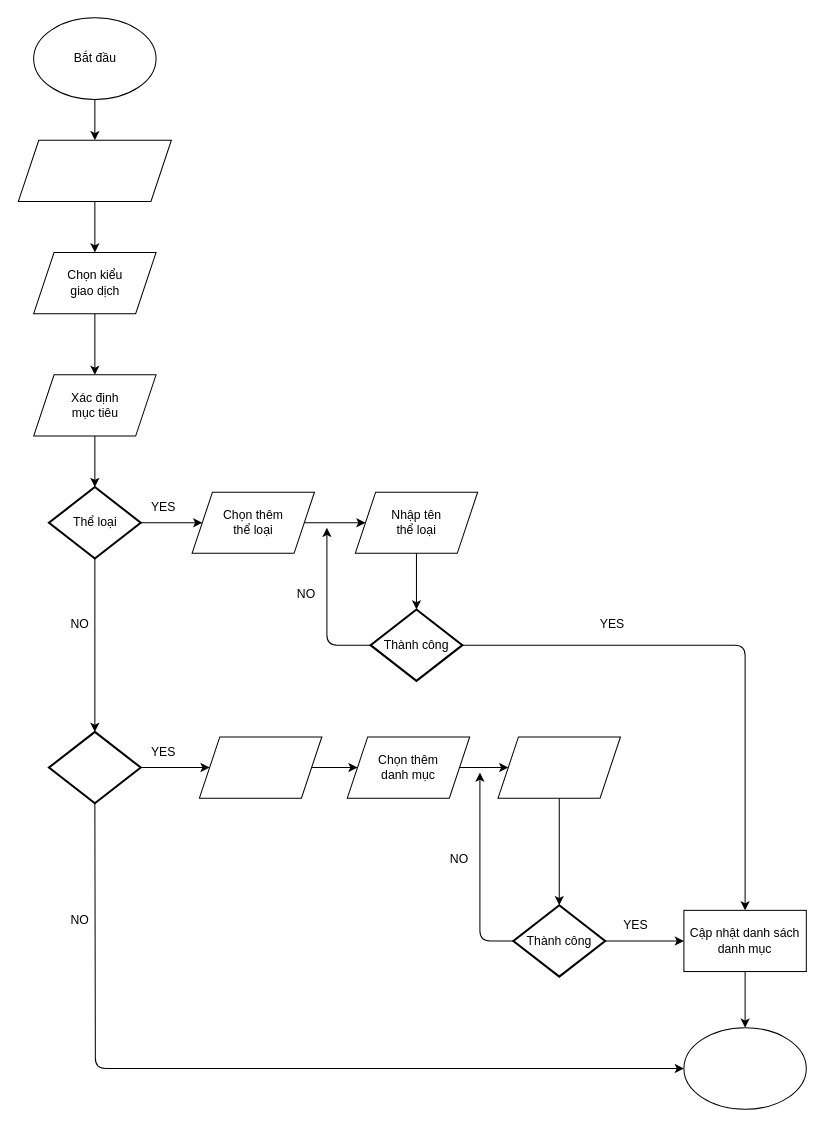
The diagram is 824 pixels wide and 1127 high, and some of its shapes have lost their labels. The shapes that lost their labels are listed below. From the top down, each one's centre as x and y in pixels, then its label:
At pixel 94 170: "Mở màn hình thêm giao dịch".
At pixel 94 767: "Danh mục".
At pixel 260 767: "Chọn thể loại có sẵn".
At pixel 558 767: "Nhập tên danh mục".
At pixel 744 1068: "Kết thúc".
